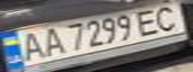2: (84, 17, 106, 47)
7: (63, 20, 87, 52)
9: (115, 11, 139, 42), (100, 15, 121, 45)
A: (12, 29, 48, 62), (36, 25, 66, 56)
C: (151, 3, 187, 33)
E: (133, 7, 166, 36)
